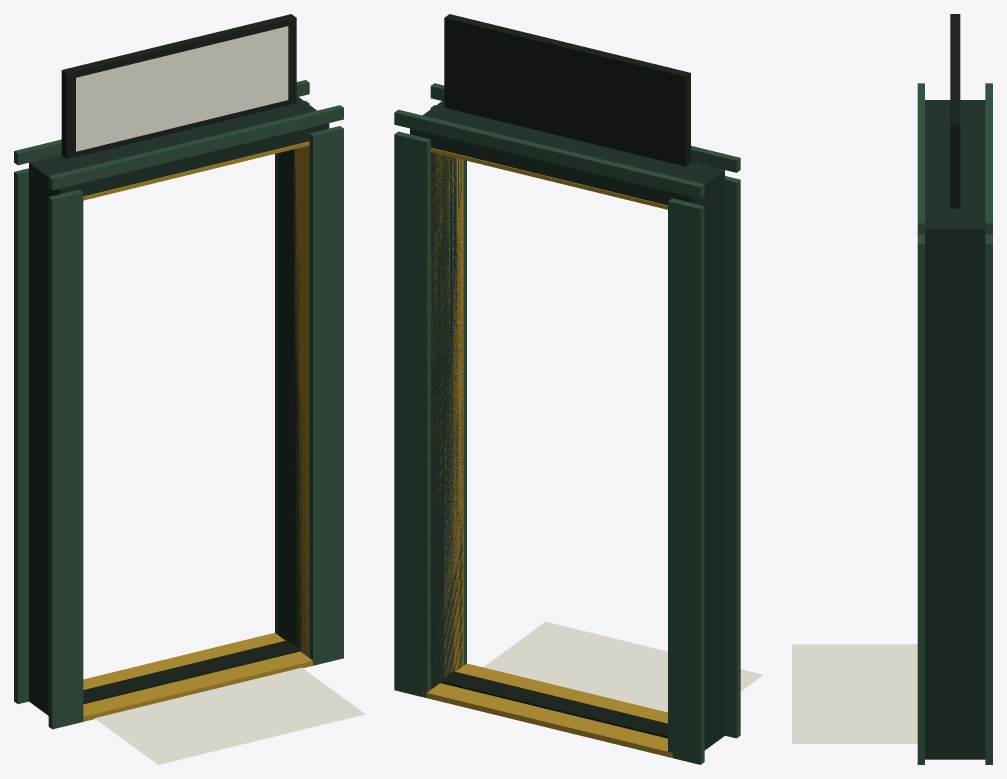
Rendered from doorway-frame.glb.
3 views of the same model, side by side, from view 1: azimuth 30°, elevation 25°; view 2: azimuth 150°, elevation 25°; view 3: azimuth 270°, elevation 25° (orthographic). The views are drawn at different scales.
Visible parts, largest first — view 1: jamb_left_casing_out, jamb_right_casing_out, transom_slot, threshold_mat_slot, jamb_right, jamb_left, jamb_left_casing_in, lintel, jamb_right_reveal, threshold, transom_panel, lintel_casing_out (+4 smaller); view 2: transom_panel, jamb_right_casing_in, jamb_left_casing_in, jamb_right, jamb_left, threshold_mat_slot, jamb_left_casing_out, jamb_right_reveal, lintel, threshold, lintel_casing_in, threshold_tread (+3 smaller); view 3: jamb_right, threshold_mat_slot, lintel, jamb_right_casing_in, jamb_right_casing_out, transom_panel, lintel_casing_out, lintel_casing_in.
Boxes of the visible parts, bbox=[...] form: jamb_left_casing_out: bbox=[48, 189, 83, 729]; jamb_right_casing_out: bbox=[309, 126, 343, 665]; transom_slot: bbox=[76, 26, 288, 151]; threshold_mat_slot: bbox=[95, 667, 365, 764]; jamb_right: bbox=[278, 149, 308, 656]; jamb_left: bbox=[29, 184, 48, 715]; jamb_left_casing_in: bbox=[14, 168, 28, 703]; lintel: bbox=[29, 97, 329, 197]; jamb_right_reveal: bbox=[291, 145, 309, 657]; threshold: bbox=[83, 633, 317, 721]; transom_panel: bbox=[61, 14, 296, 159]; lintel_casing_out: bbox=[48, 105, 343, 190]; transom_panel: bbox=[444, 14, 690, 166]; jamb_right_casing_in: bbox=[394, 131, 430, 697]; jamb_left_casing_in: bbox=[668, 198, 704, 764]; jamb_right: bbox=[431, 152, 462, 689]; jamb_left: bbox=[704, 192, 724, 750]; threshold_mat_slot: bbox=[483, 621, 763, 712]; jamb_left_casing_out: bbox=[725, 176, 740, 738]; jamb_right_reveal: bbox=[430, 153, 463, 689]; lintel: bbox=[410, 101, 724, 206]; threshold: bbox=[422, 663, 672, 757]; lintel_casing_in: bbox=[394, 109, 704, 199]; threshold_tread: bbox=[440, 671, 667, 738]; jamb_right: bbox=[925, 250, 985, 759]; threshold_mat_slot: bbox=[792, 644, 917, 743]; lintel: bbox=[925, 100, 985, 249]; jamb_right_casing_in: bbox=[985, 234, 992, 764]; jamb_right_casing_out: bbox=[917, 234, 924, 764]; transom_panel: bbox=[950, 14, 960, 208]; lintel_casing_out: bbox=[917, 83, 924, 234]; lintel_casing_in: bbox=[985, 83, 992, 234].
Size of the model in its own units: 1.32 by 2.75 by 0.8.
